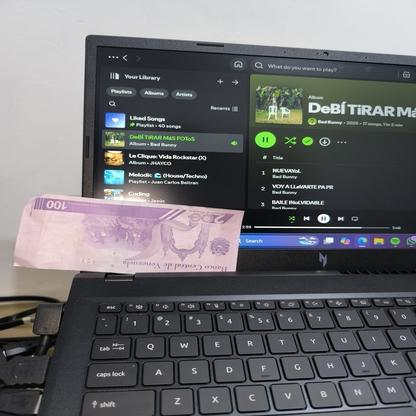one_hundred-back-vef: (13, 194, 245, 272)
